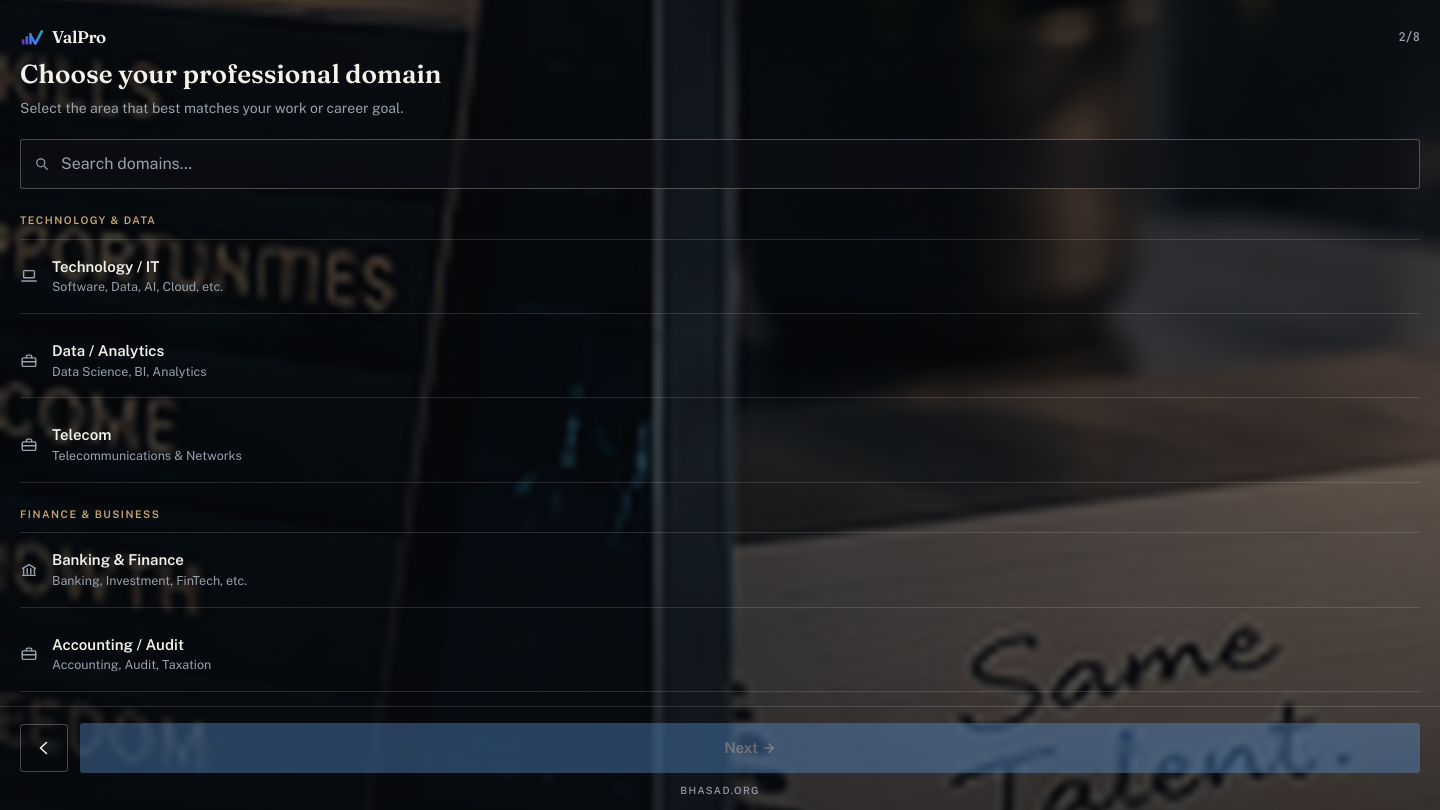
Test: DomainSelection — broad taxonomy stays usable, not overwhelming › the search field filters the list down to matching domains only
Type "legal" into the search field labelled "Search domains…" at (720, 164), box [20, 139, 1420, 189]
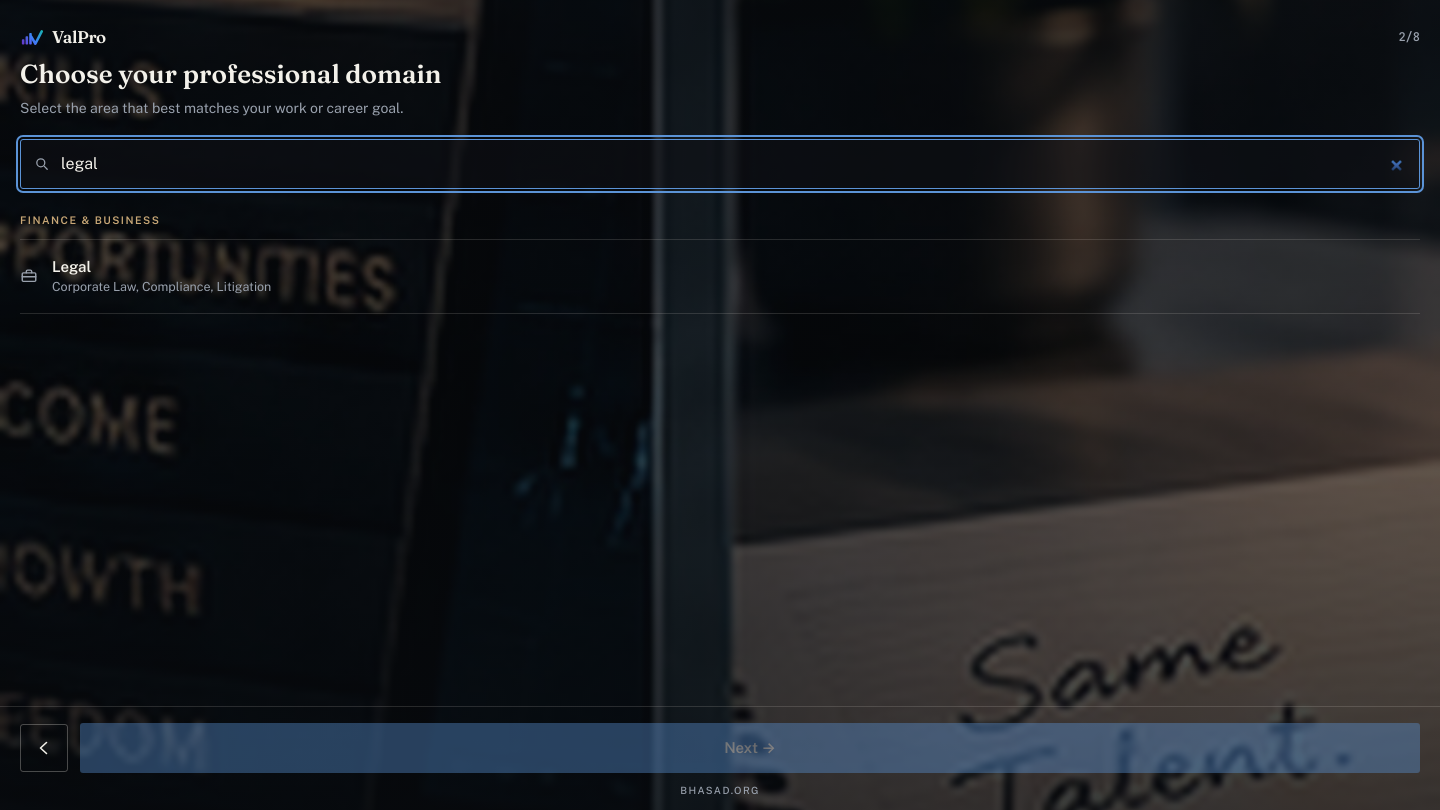
Check: the button "Legal Corporate Law, Compliance, Litigation" is shown, box [20, 239, 1420, 314]
Check: the button "Technology / IT" is gone
